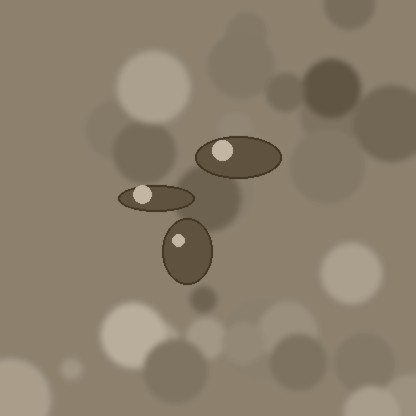gota: (195, 138, 281, 182), (162, 220, 212, 290), (118, 186, 194, 214)
